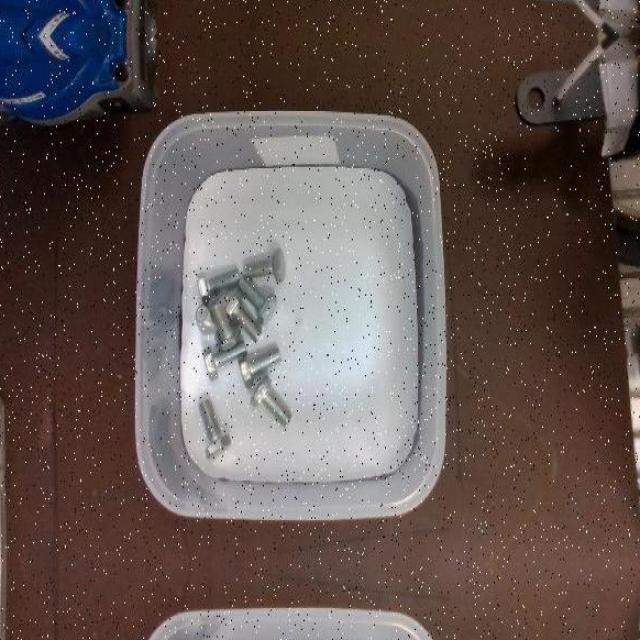screw: (250, 374, 292, 425), (199, 398, 232, 458), (239, 276, 278, 324), (238, 348, 282, 388), (197, 267, 241, 307), (209, 298, 242, 351), (244, 248, 286, 282)
